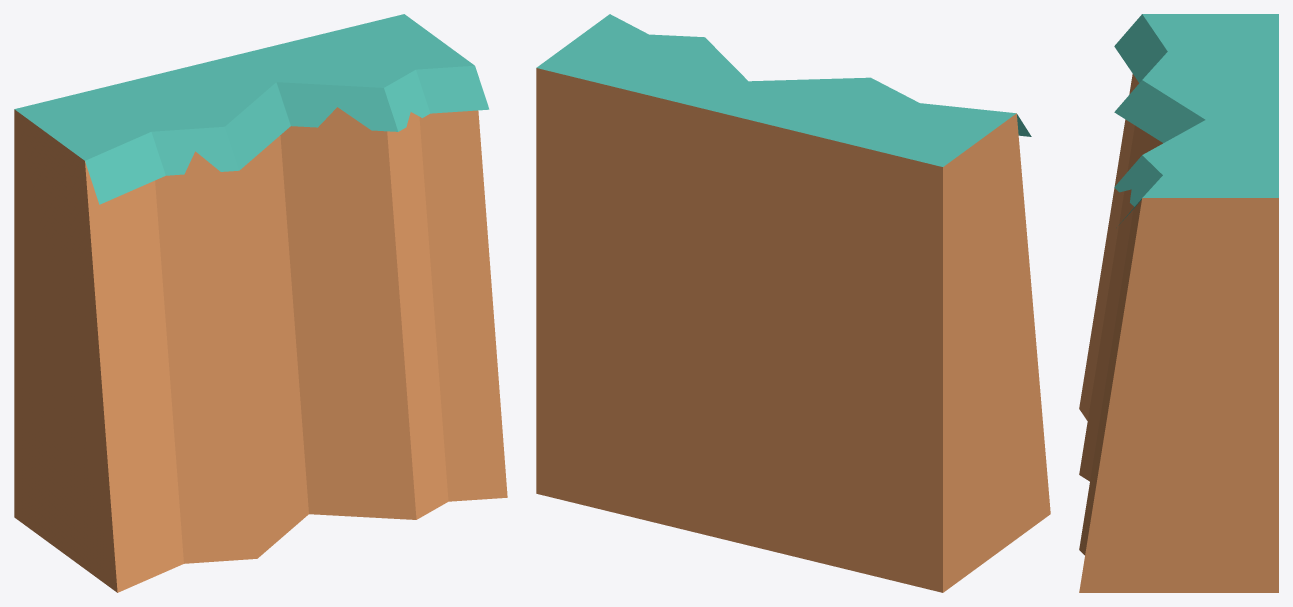
The model's file is cliffBrown_top.fbx.
3 views of the same model, side by side, from view 1: azimuth 30°, elevation 25°; view 2: azimuth 150°, elevation 25°; view 3: azimuth 270°, elevation 25° (orthographic). The views are drawn at different scales.
Parts seen in each view (by area): view 1: cliffBrown_top; view 2: cliffBrown_top; view 3: cliffBrown_top.
Boxes of the visible parts, x1=… form: cliffBrown_top: x1=14, y1=14, x2=507, y2=592; cliffBrown_top: x1=536, y1=14, x2=1050, y2=592; cliffBrown_top: x1=1079, y1=14, x2=1278, y2=592.
Bounding box in the file's own units: 10 × 10 × 4.58.
